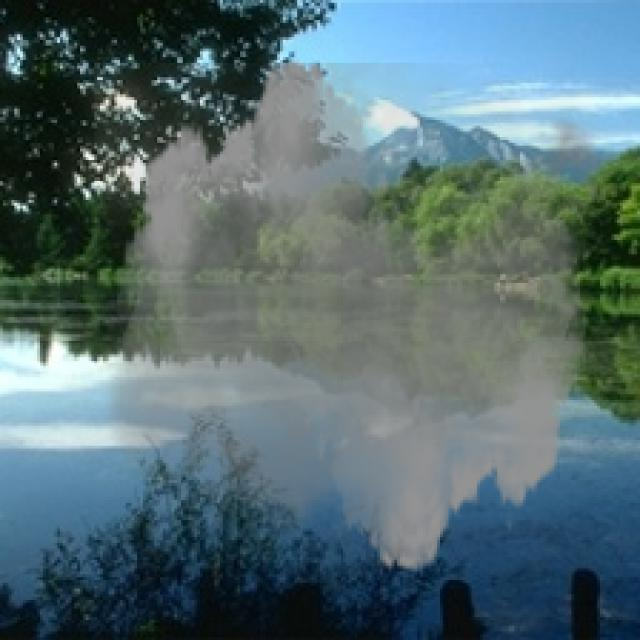Smoke: (94, 42, 623, 588)
